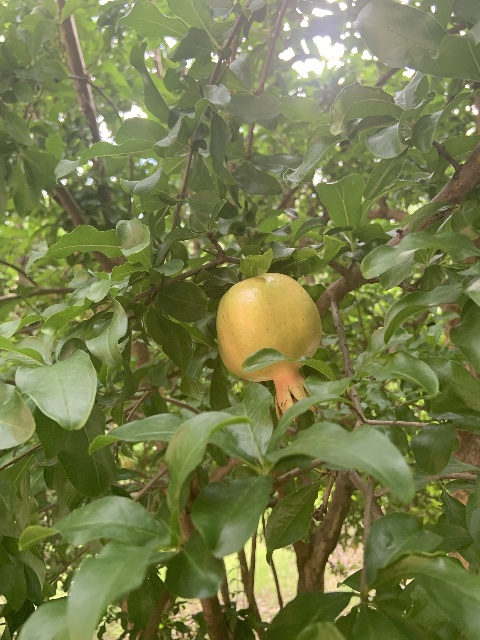mid-growth: (215, 272, 322, 422)
